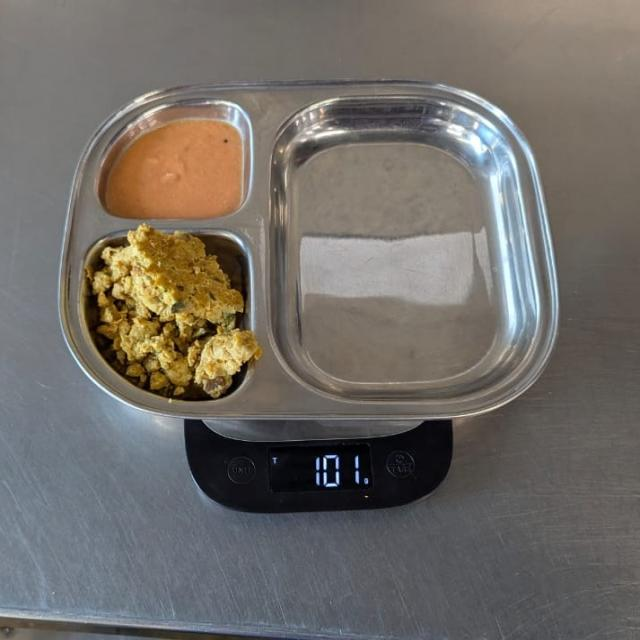Chutney: (99, 106, 258, 227)
Egg Bhurji: (85, 229, 266, 404)
